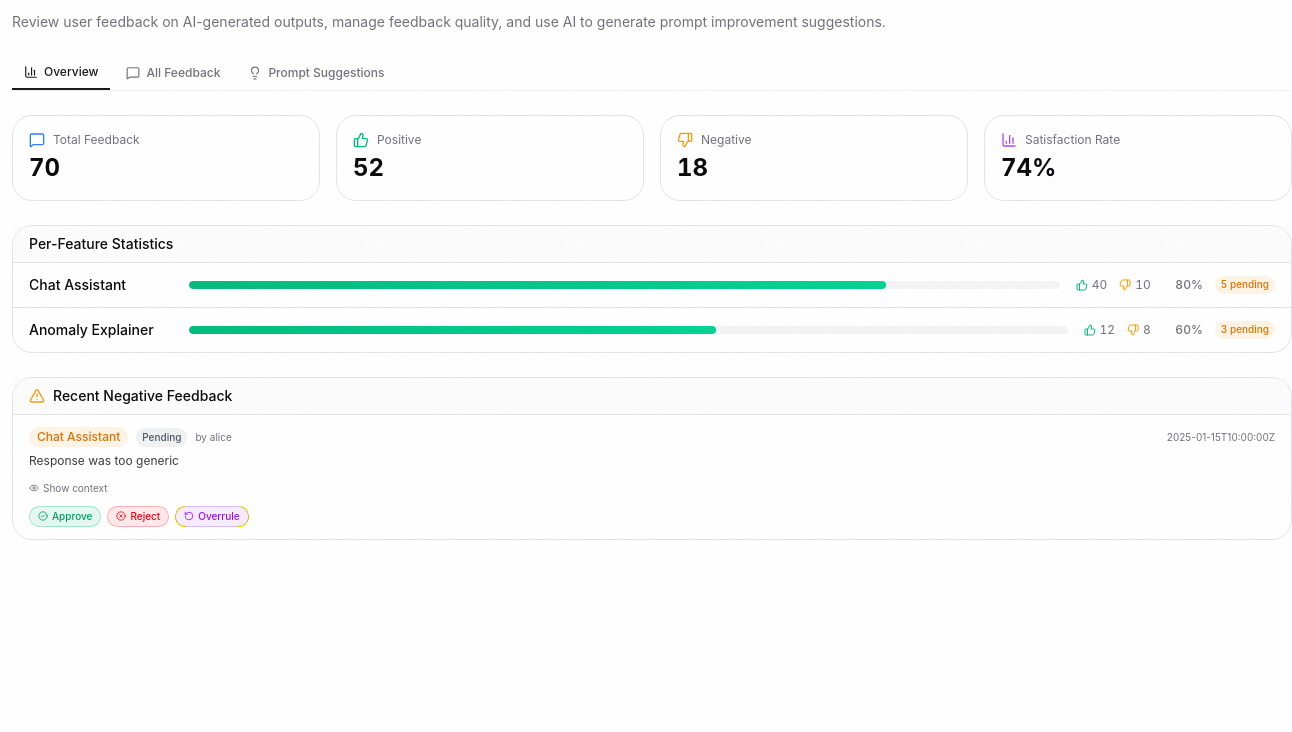
AiFeedbackPanel › switches to Suggestions tab
The image size is (1292, 732).
Step 1. Click the button "Prompt Suggestions" → coordinates (316, 73), box x1=236 y1=56 x2=396 y2=90
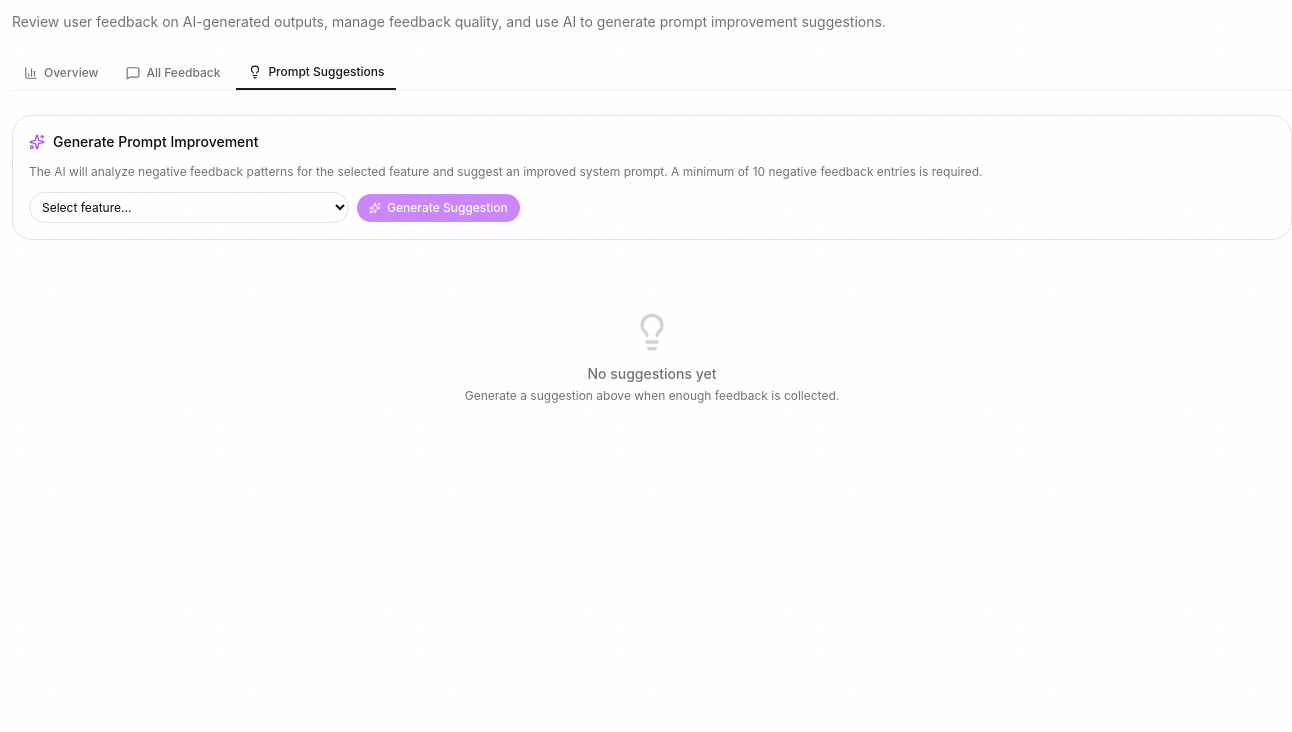
Now the element with test id "generate-suggestion-section" is shown, box x1=12 y1=115 x2=1291 y2=240
Now the heading "Generate Prompt Improvement" is shown, box x1=53 y1=132 x2=258 y2=152
